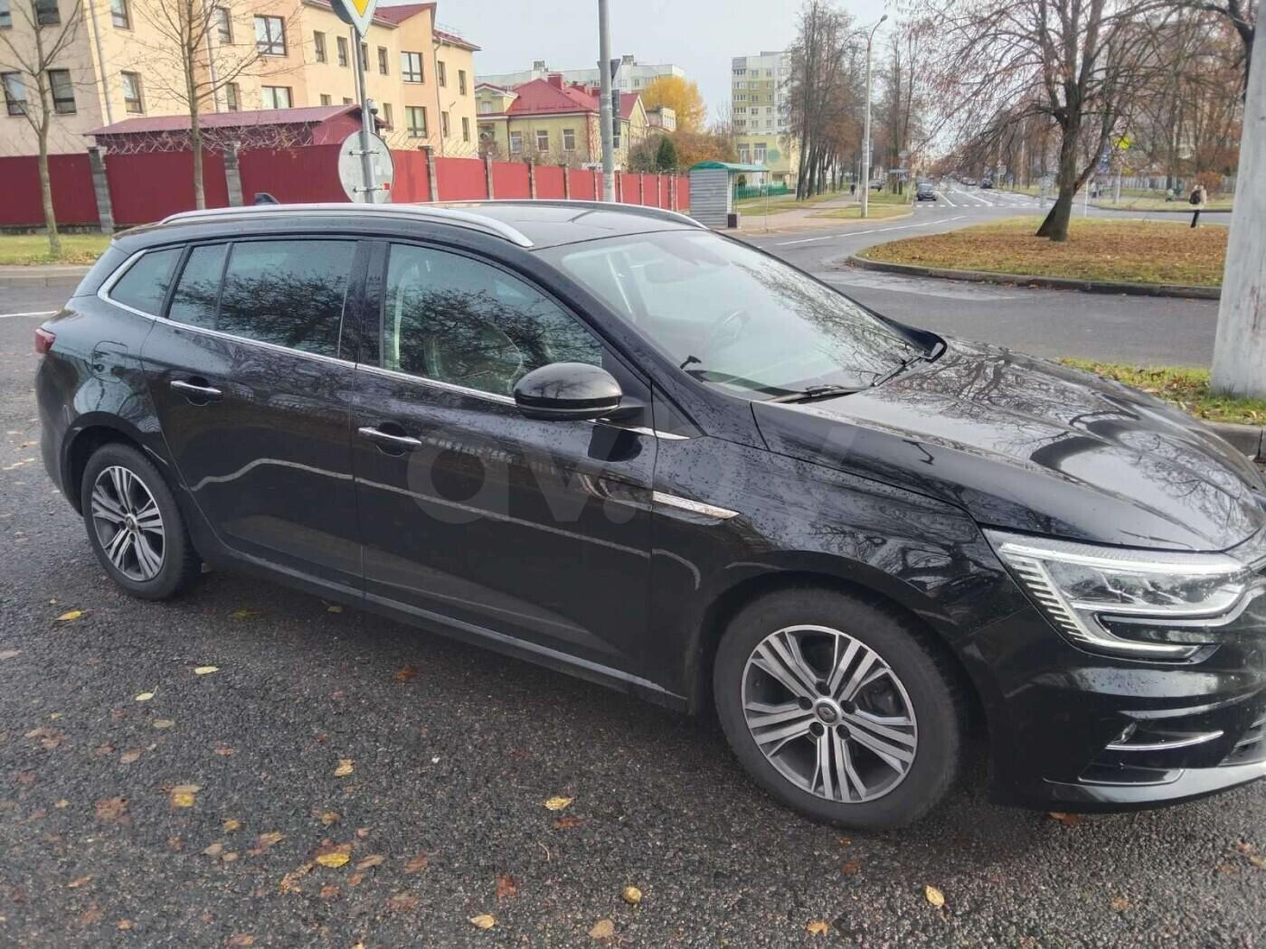Megane_2020: (37, 191, 1266, 850)
